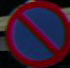No waiting: (4, 3, 66, 62)
